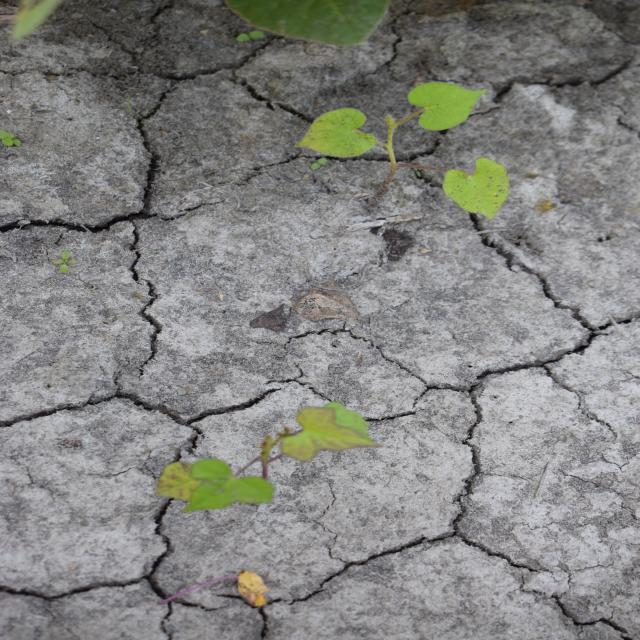MorningGlory: (290, 80, 513, 222), (154, 401, 387, 516)
